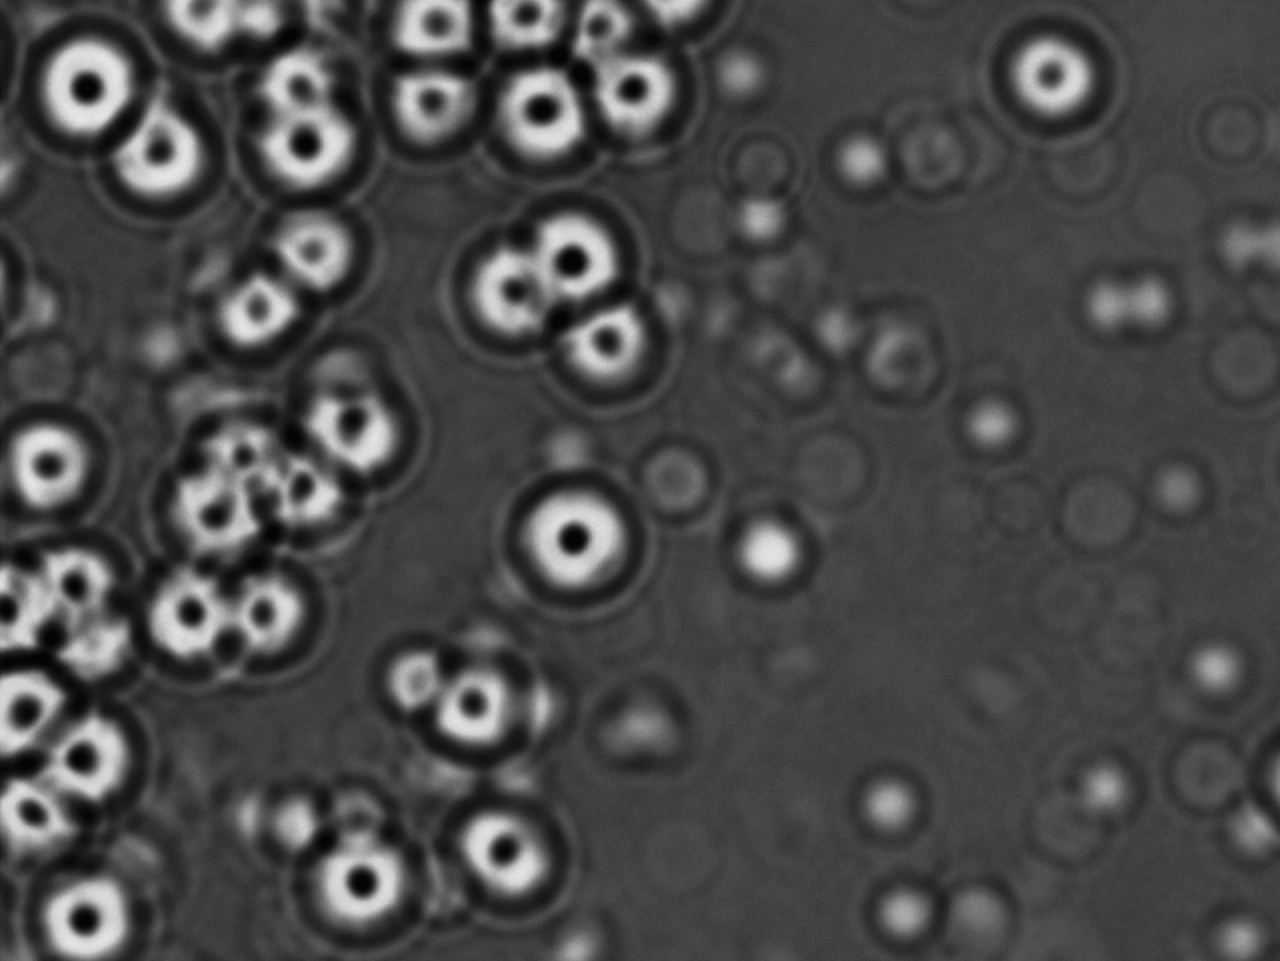depth:24: (498, 468, 643, 611), (439, 800, 575, 930), (297, 352, 416, 480), (20, 19, 143, 139), (558, 281, 676, 405), (442, 230, 559, 350), (295, 826, 413, 944), (993, 17, 1108, 138), (251, 91, 367, 205), (518, 205, 636, 316), (98, 97, 211, 211), (374, 50, 486, 159), (418, 650, 529, 758), (581, 47, 689, 157), (31, 860, 147, 961), (220, 566, 326, 673), (131, 560, 237, 666), (488, 60, 593, 163), (38, 712, 142, 813)
